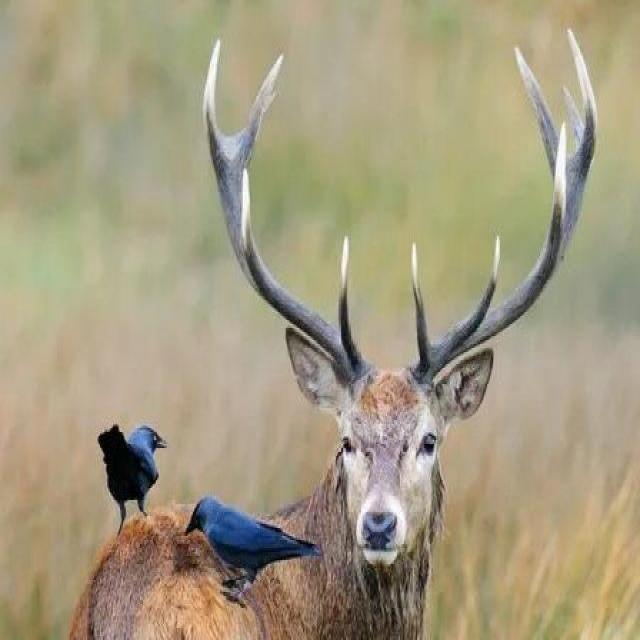deer: (194, 117, 528, 572)
